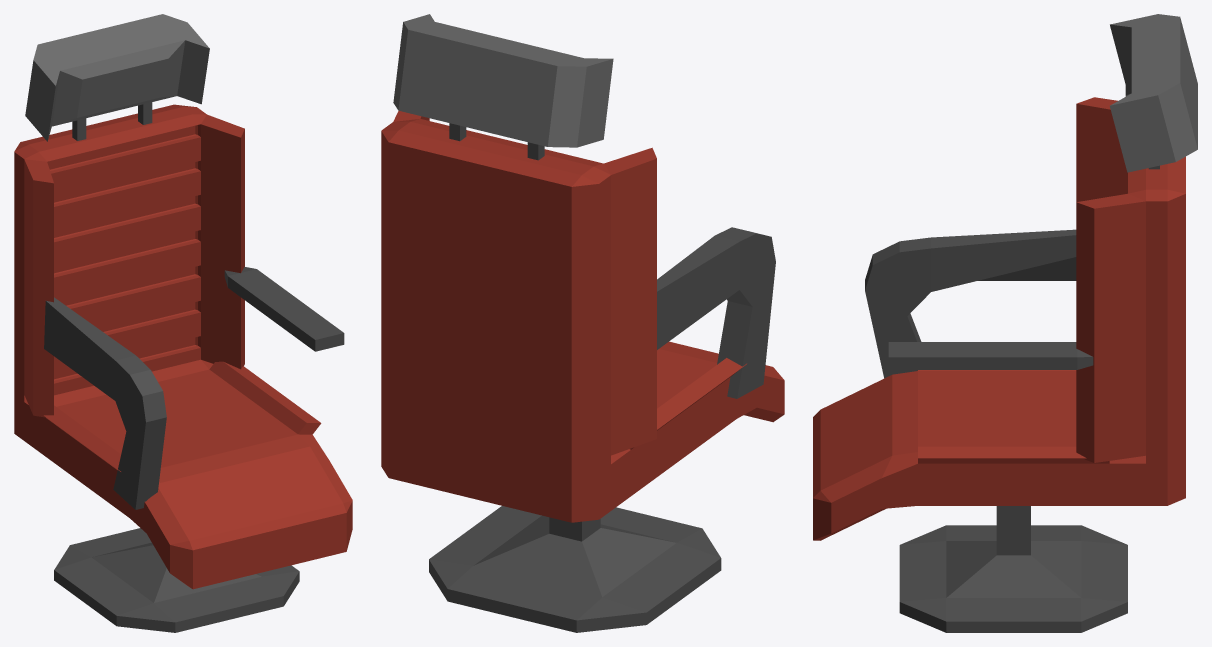
The model's file is PilotChair.fbx.
The picture shows the model from 3 angles, left to right: view 1: azimuth 30°, elevation 25°; view 2: azimuth 150°, elevation 25°; view 3: azimuth 270°, elevation 25°; orthographic projection. The views are drawn at different scales.
Parts seen in each view (by area): view 1: Cube.001, Cube.004, Cube, Cube.005, Cube.006; view 2: Cube.001, Cube, Cube.004, Cube.005; view 3: Cube.001, Cube, Cube.005, Cube.004, Cube.006.
Part boxes in pixels (x1,y1,x2,y2): Cube.001: (14, 104, 352, 589); Cube.004: (25, 14, 209, 141); Cube: (54, 528, 299, 632); Cube.005: (44, 297, 166, 509); Cube.006: (224, 267, 344, 351); Cube.001: (381, 111, 784, 522); Cube: (429, 506, 721, 632); Cube.004: (393, 14, 613, 147); Cube.005: (657, 227, 775, 398); Cube.001: (813, 97, 1185, 540); Cube: (899, 506, 1127, 632); Cube.005: (865, 229, 1076, 378); Cube.004: (1110, 14, 1197, 172); Cube.006: (888, 342, 1093, 369).
Size of the model in its own units: 236 by 522 by 337.
